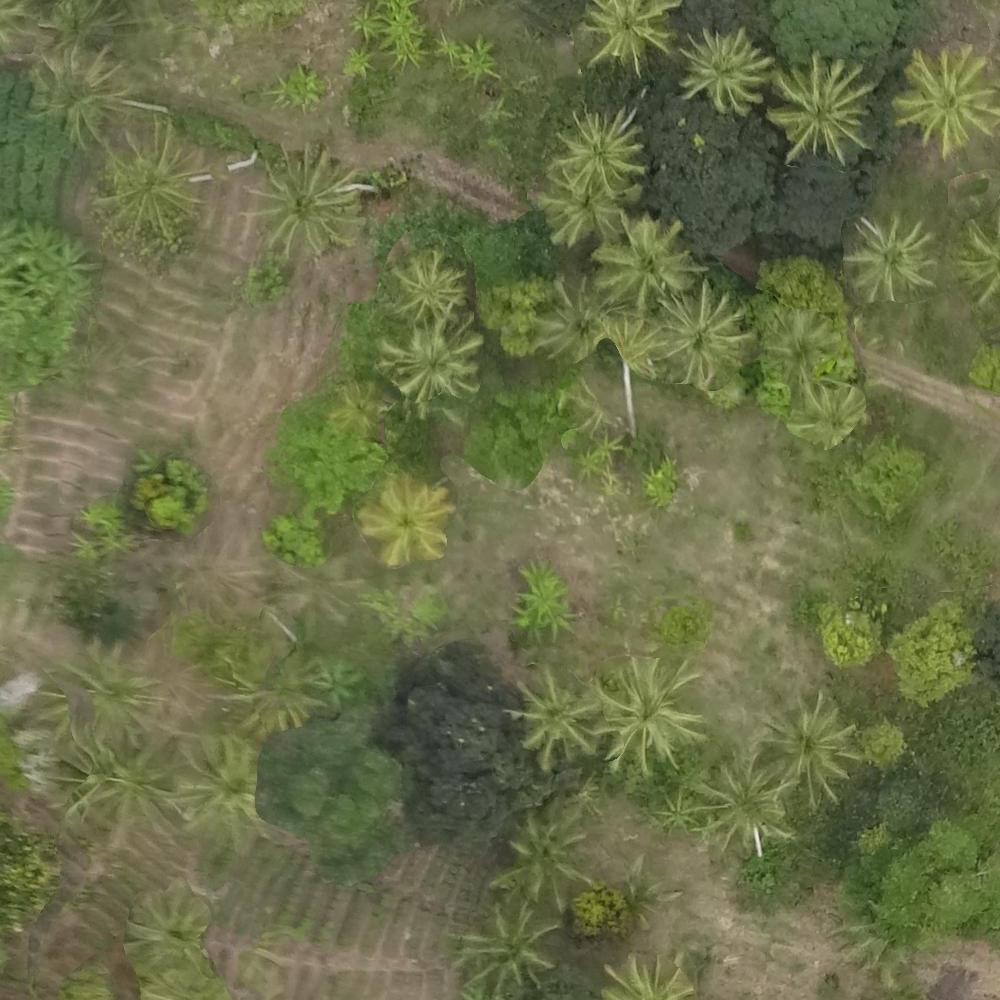Palm: (97, 132, 197, 242), (250, 150, 355, 254), (598, 661, 699, 766), (897, 46, 996, 151), (771, 62, 868, 160), (758, 697, 850, 800), (698, 760, 796, 851), (597, 215, 695, 305), (450, 912, 550, 998), (498, 815, 587, 908), (365, 478, 452, 572), (511, 671, 602, 760), (29, 52, 122, 139), (653, 292, 743, 381), (174, 742, 264, 830), (379, 324, 474, 402), (679, 33, 772, 111), (845, 215, 931, 299), (586, 1, 672, 73), (534, 278, 611, 357), (538, 172, 623, 241), (560, 113, 644, 182), (763, 309, 838, 381), (795, 381, 864, 448), (389, 258, 464, 315)
